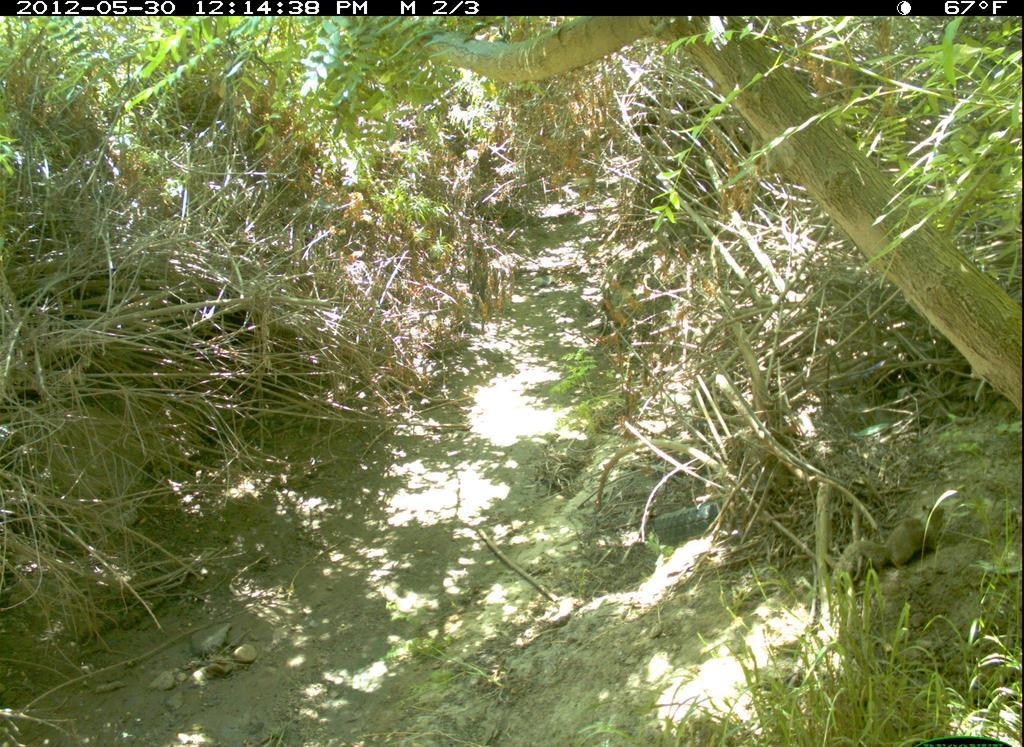squirrel: (831, 501, 966, 601)
